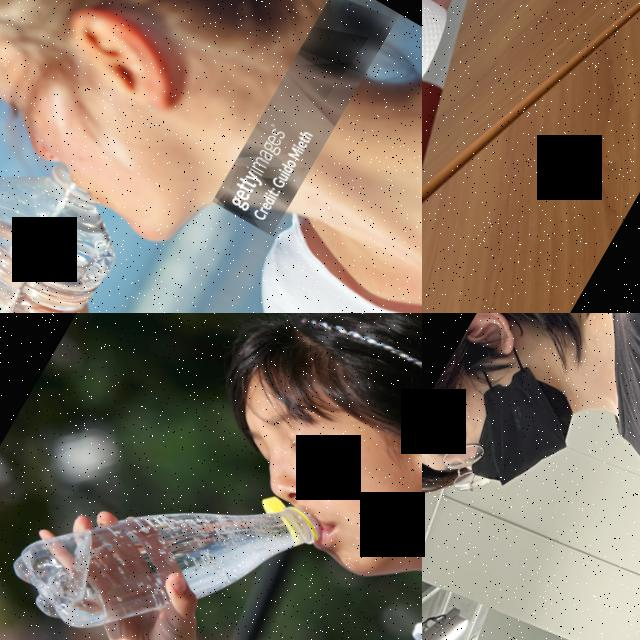bottle: (0, 390, 335, 640), (0, 127, 146, 313)
